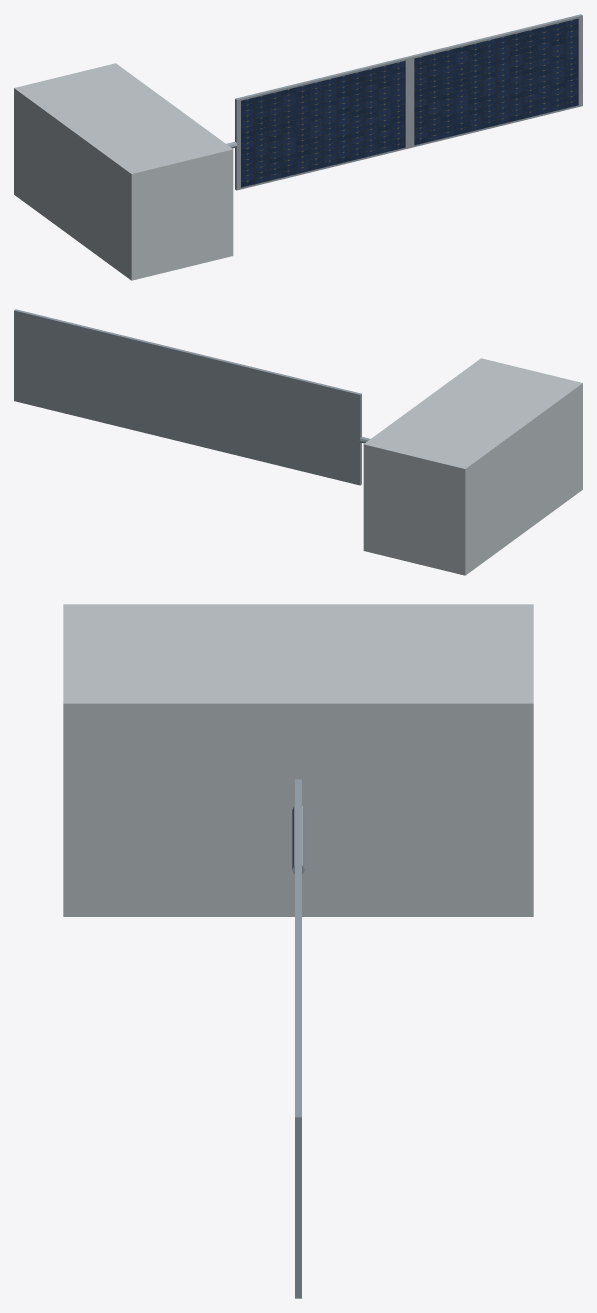
File: ref-gokturk-2-39030.glb
3 views of the same model, one above another, from view 1: azimuth 30°, elevation 25°; view 2: azimuth 150°, elevation 25°; view 3: azimuth 270°, elevation 25° (orthographic). The views are drawn at different scales.
Visible parts, largest first — view 1: Spacecraft body, Photovoltaic laminates (×2), Array frame (×2); view 2: Spacecraft body, Array frame (×2); view 3: Spacecraft body, Array frame (×2).
Part boxes in pixels (box(x1,y1,x2,y2)): Spacecraft body: box(14, 63, 233, 280); Photovoltaic laminates (×2): box(241, 18, 578, 187); Array frame (×2): box(235, 14, 582, 190); Spacecraft body: box(363, 358, 582, 575); Array frame (×2): box(14, 309, 361, 485); Spacecraft body: box(63, 604, 533, 916); Array frame (×2): box(295, 779, 301, 1298).
Size of the model in its own units: 5 by 1 by 2.
3 materials, 1 textured.
